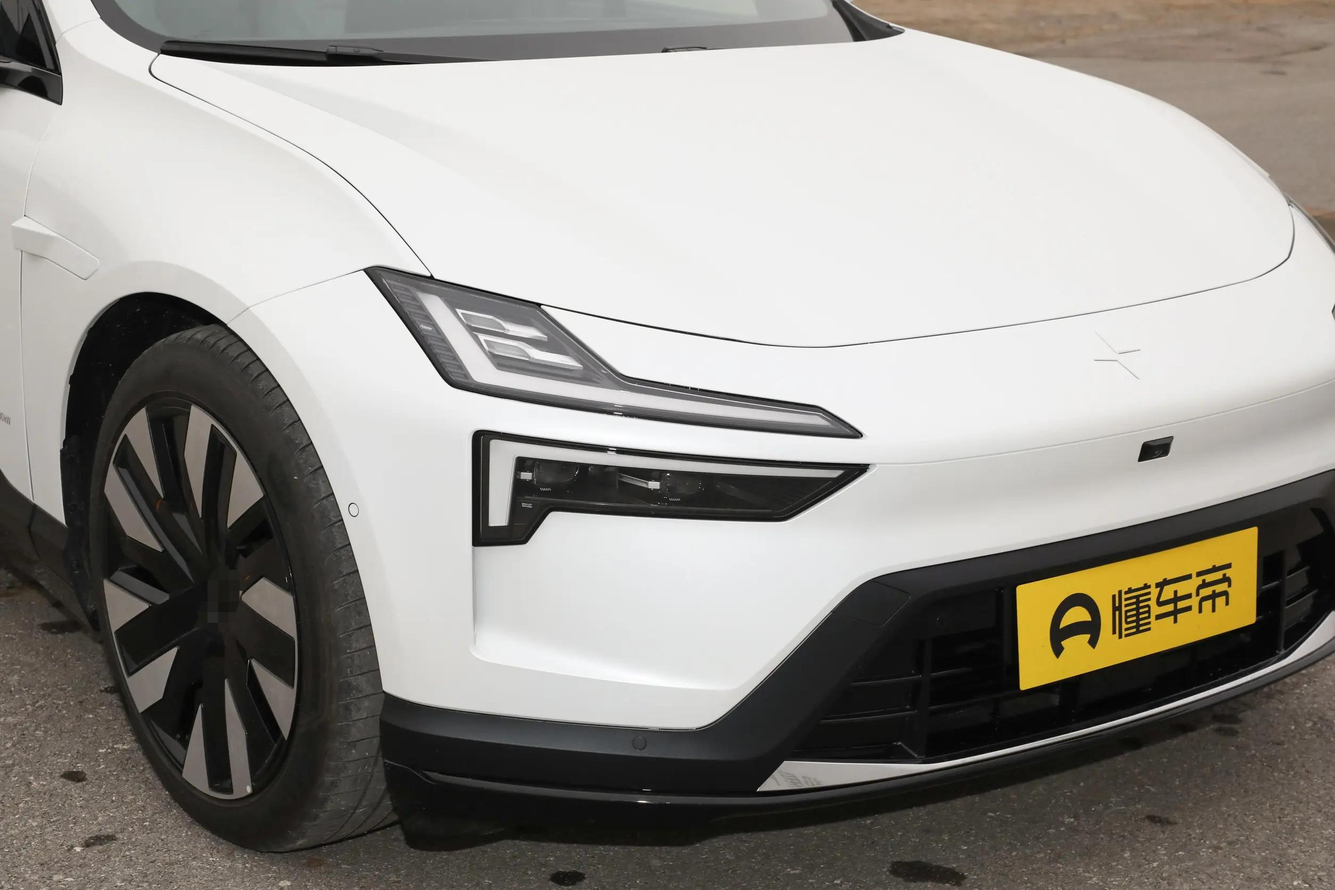Polestar: (1094, 329, 1141, 380)
